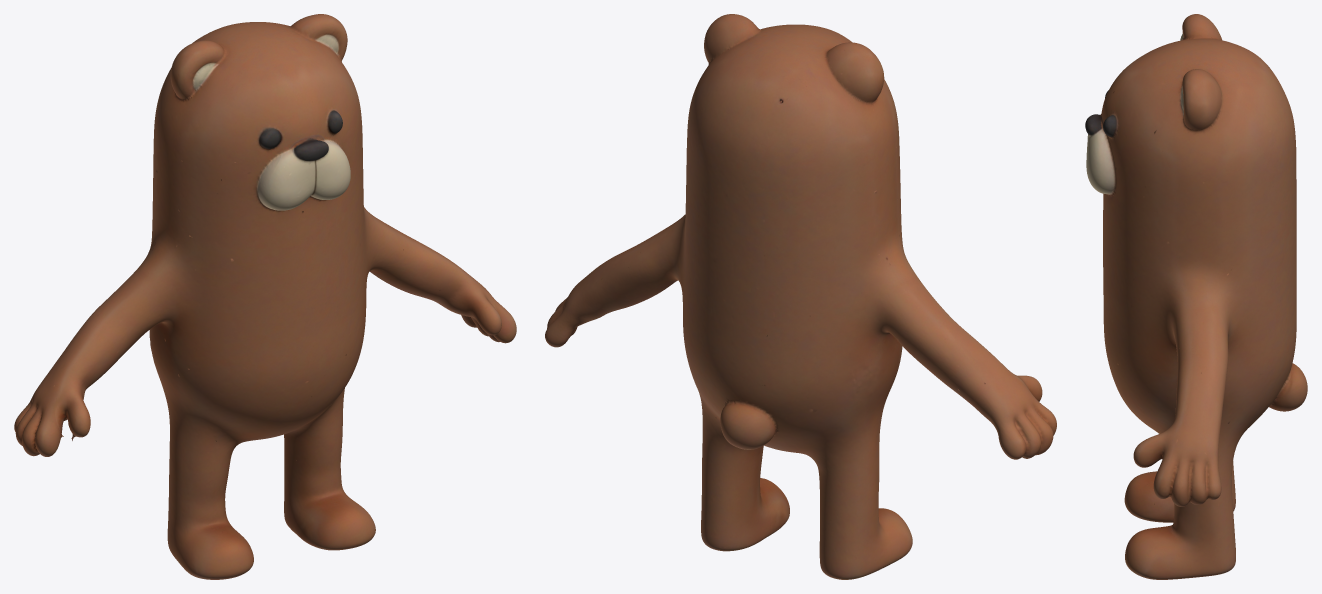
Rendered from Meshy_AI_Friendly_Bear_0415082241_texture.fbx.
The picture shows the model from 3 angles, left to right: view 1: azimuth 30°, elevation 25°; view 2: azimuth 150°, elevation 25°; view 3: azimuth 270°, elevation 25°; orthographic projection. The views are drawn at different scales.
Parts seen in each view (by area): view 1: Mesh_0; view 2: Mesh_0; view 3: Mesh_0.
Boxes of the visible parts, x1,y1,x2,y2 form: Mesh_0: [14, 14, 516, 579]; Mesh_0: [545, 14, 1056, 579]; Mesh_0: [1085, 14, 1307, 579].
Bounding box in the file's own units: 199 × 200 × 81.11.
1 material, 1 textured.
